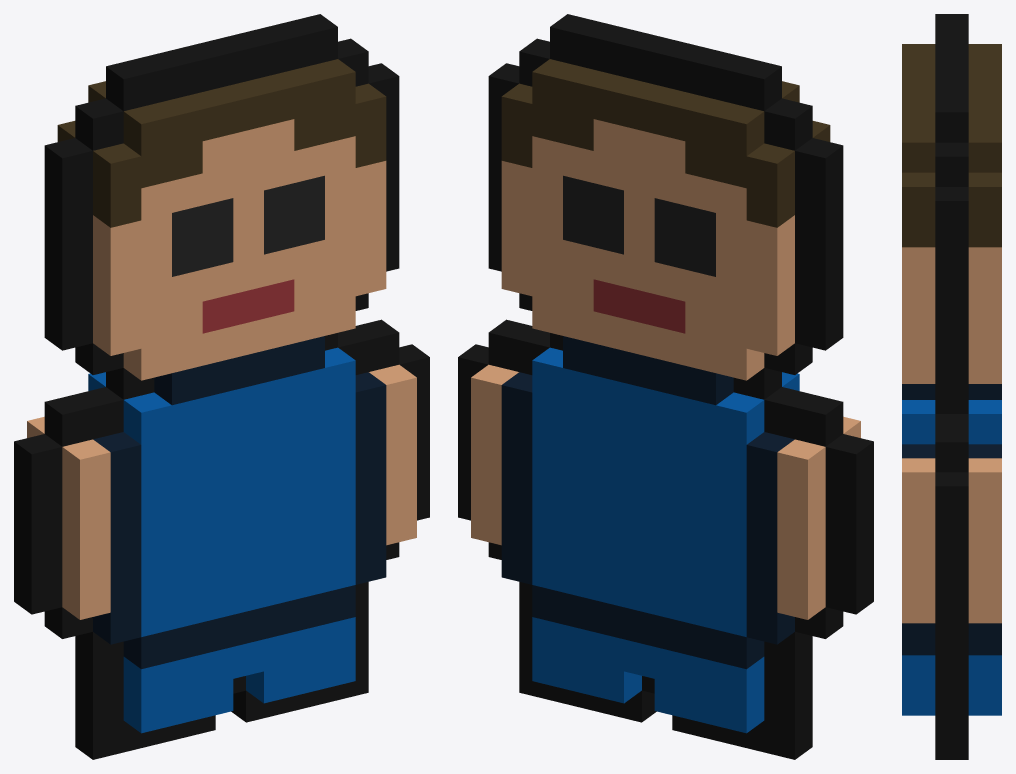
File: 210411 man.obj
The picture shows the model from 3 angles, left to right: view 1: azimuth 30°, elevation 25°; view 2: azimuth 150°, elevation 25°; view 3: azimuth 270°, elevation 25°; orthographic projection. The views are drawn at different scales.
Bounding box in the file's own units: 1.3 × 2.1 × 0.3.
Materials: 1 (1 with a texture image).
